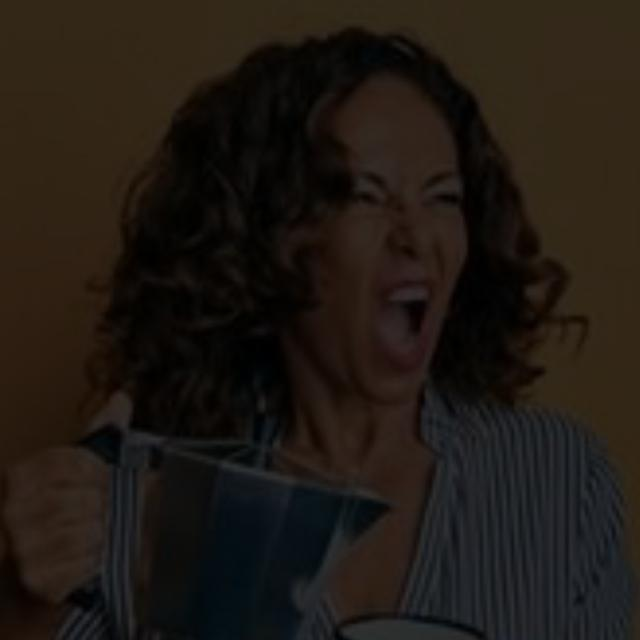Angry: (200, 76, 513, 420)
